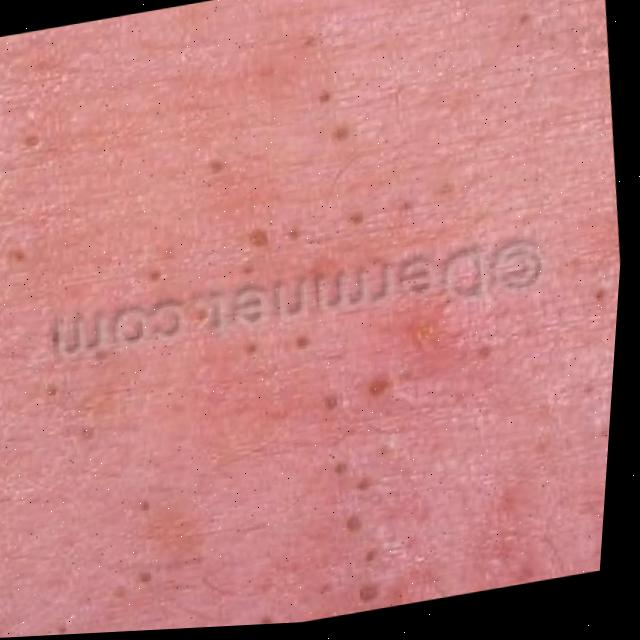Acne: (56, 78, 516, 635)
